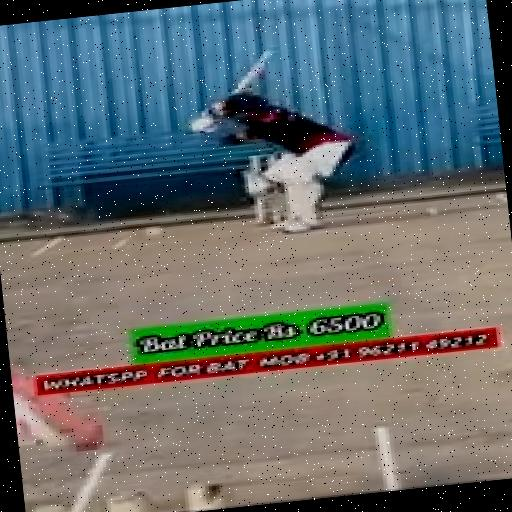Cricket bat: (232, 52, 267, 92)
